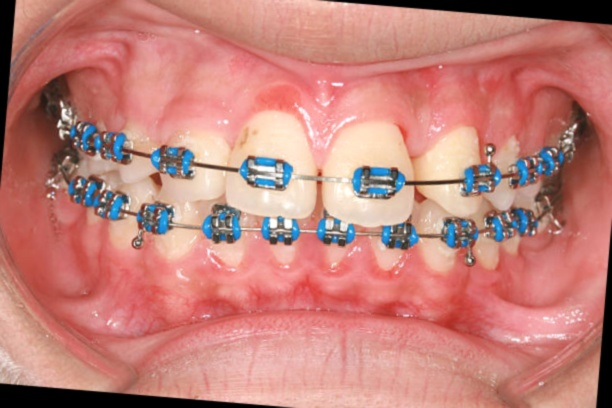Gingivitis: (283, 271, 436, 320), (118, 276, 173, 335), (441, 280, 491, 334), (190, 284, 241, 319)
